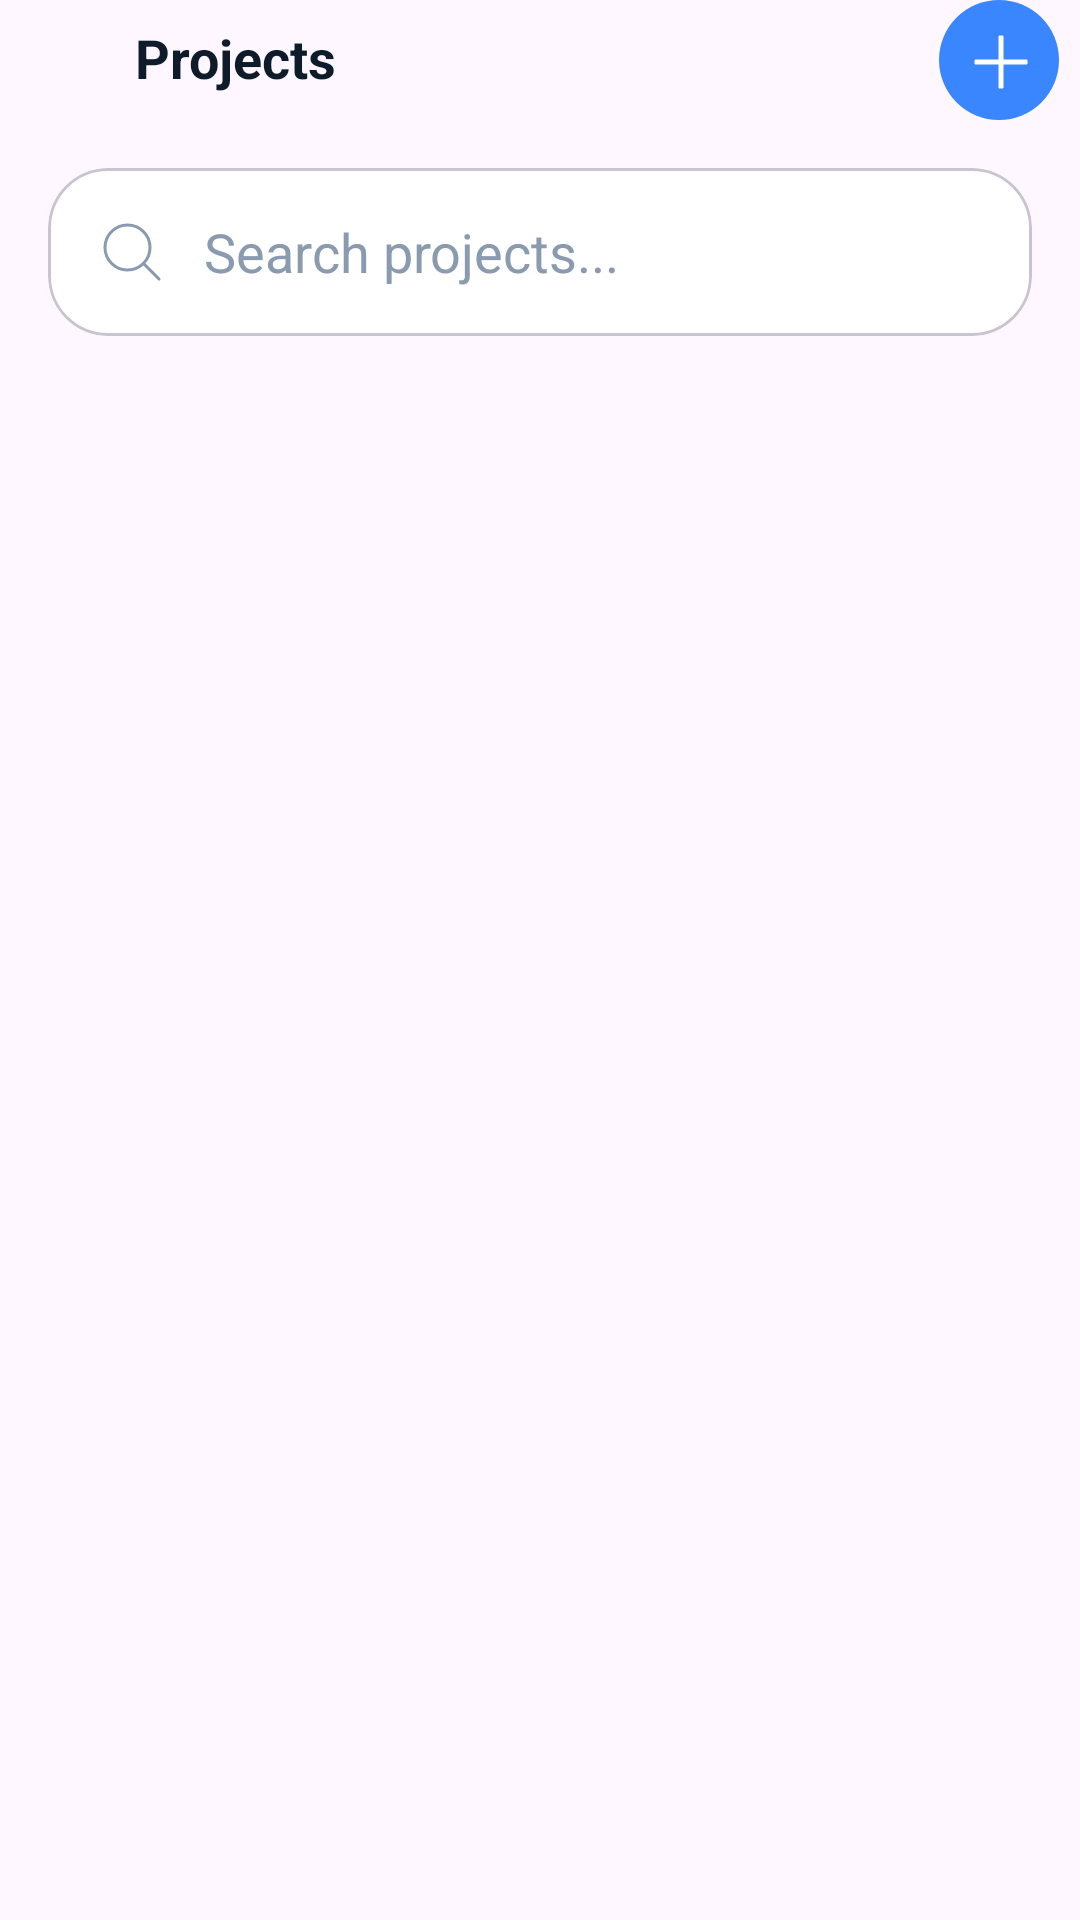

Icons on this 1080px×1920px Android screen, each with its box as (x1, y1, x2, y2):
plus: (939, 0, 1059, 120)
